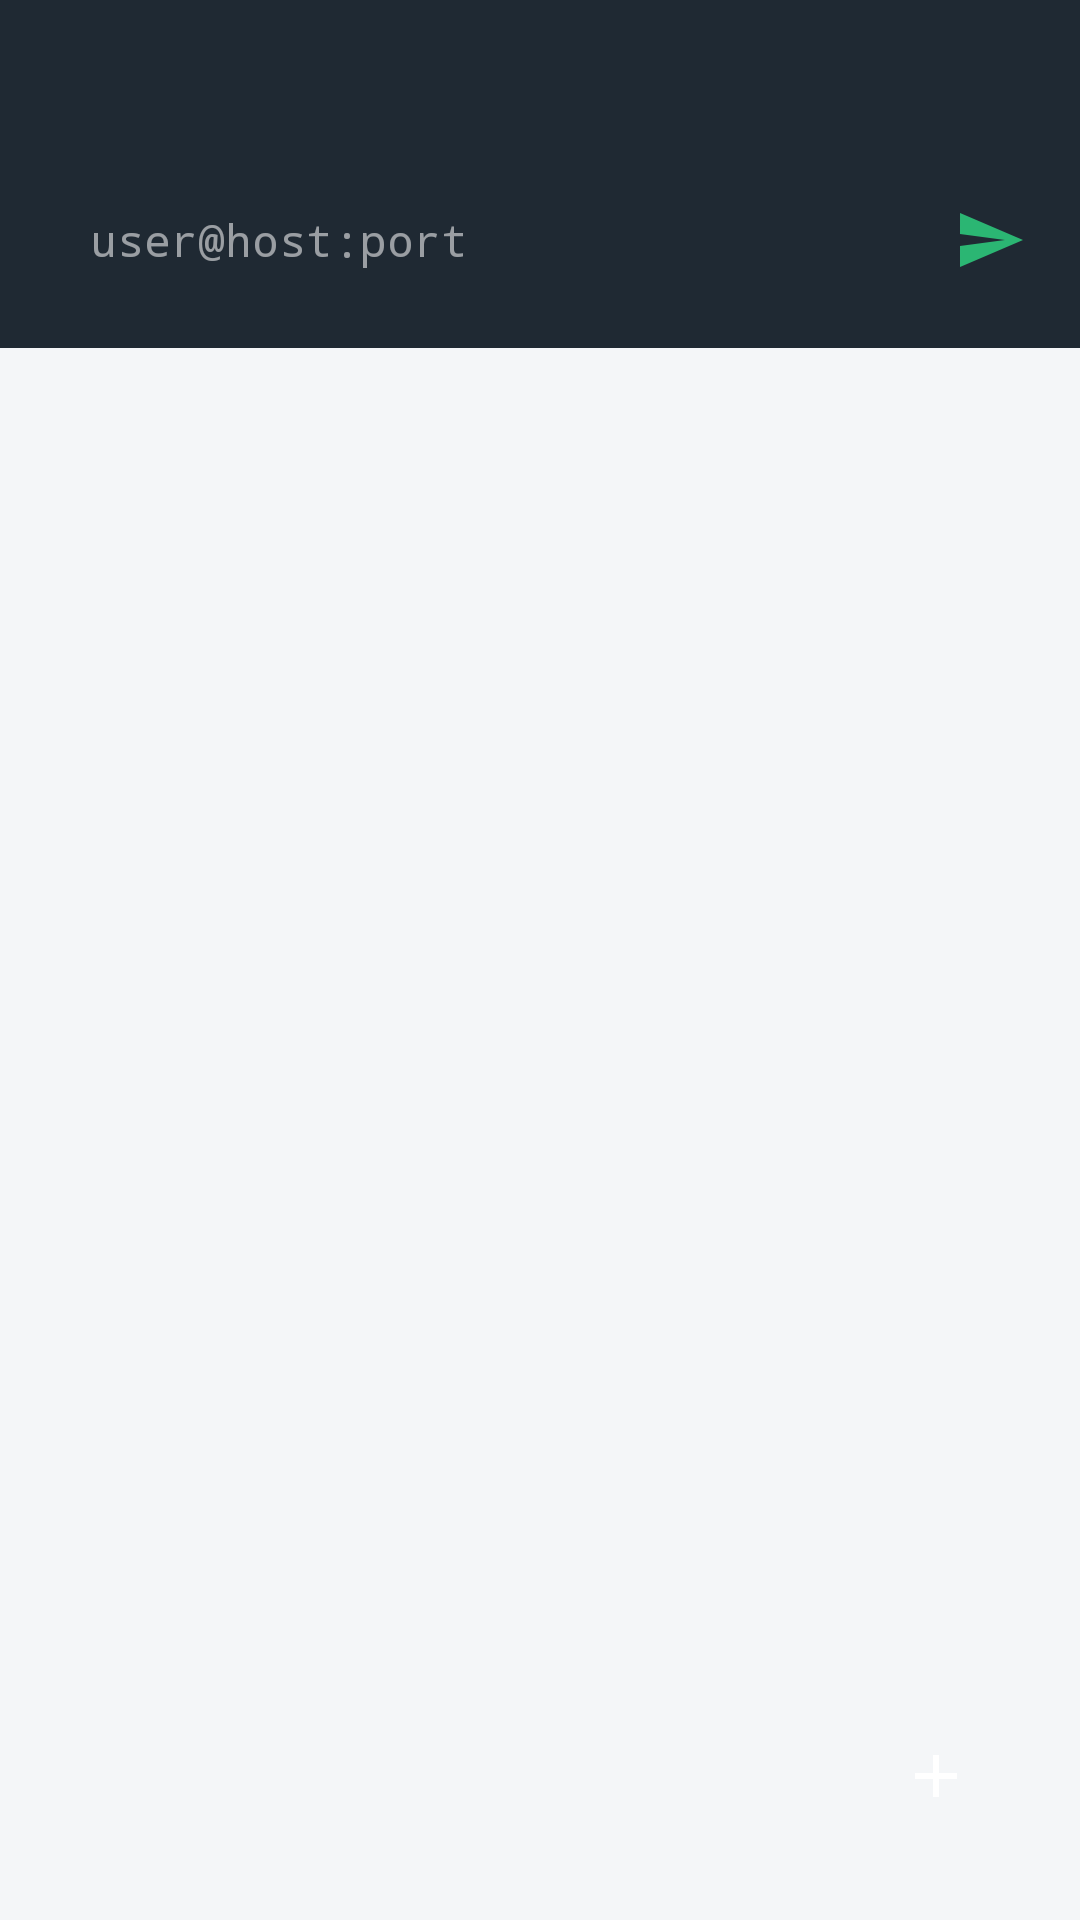

Icon bounding boxes for this 1080x1920 phone screenshot, format Rect(x1, y1, x2, y2):
Подключиться: Rect(960, 213, 1023, 267)
